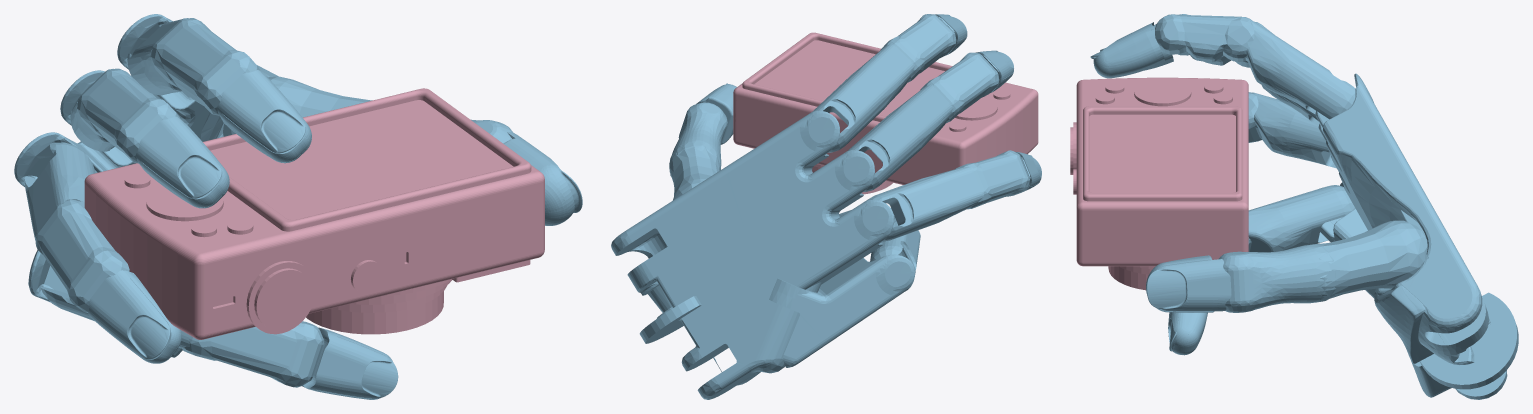
3 renders of one model, left to right at view 1: azimuth 30°, elevation 25°; view 2: azimuth 150°, elevation 25°; view 3: azimuth 270°, elevation 25°, orthographic. The views are drawn at different scales.
Visible parts, largest first — view 1: camera.stl, world; view 2: world, camera.stl; view 3: world, camera.stl.
Part boxes in pixels (x1,y1,x2,y2): camera.stl: [84, 88, 544, 339]; world: [14, 14, 582, 399]; world: [611, 14, 1041, 399]; camera.stl: [733, 32, 1038, 194]; world: [1090, 14, 1518, 399]; camera.stl: [1070, 77, 1248, 290].
Size of the model in its own units: 0.1576 by 0.1411 by 0.1686.
